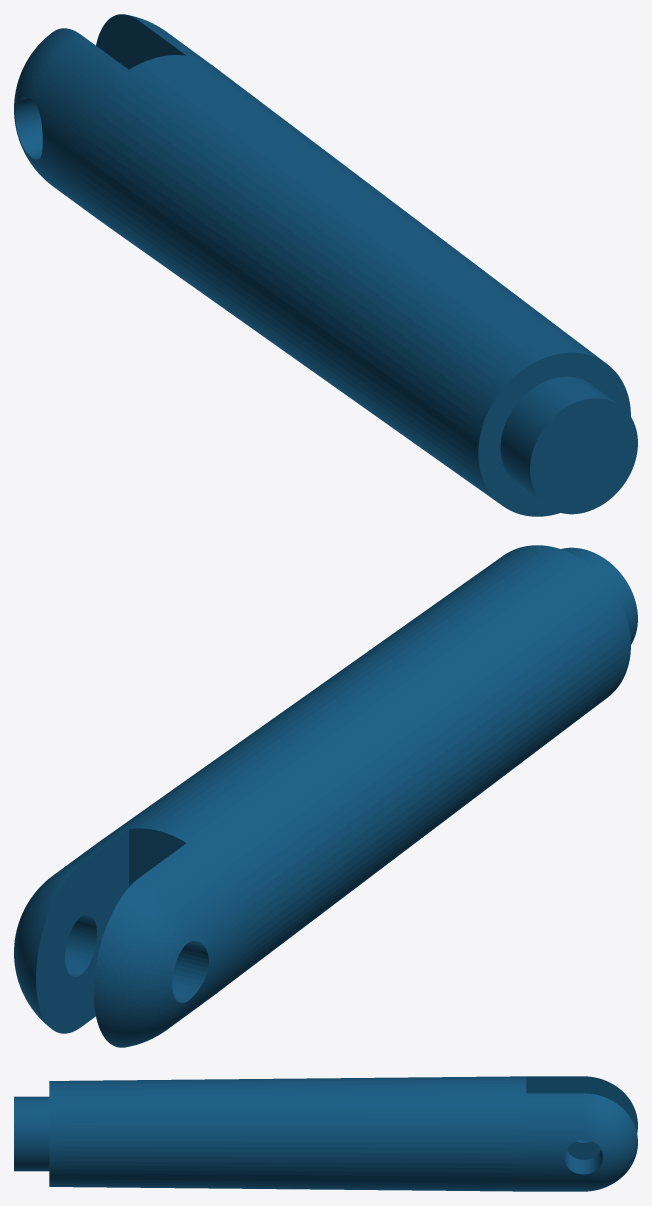
3 views of the same model, one above another, from view 1: azimuth 30°, elevation 25°; view 2: azimuth 150°, elevation 25°; view 3: azimuth 270°, elevation 25° (orthographic). The views are drawn at different scales.
Visible parts, largest first — view 1: node; view 2: node; view 3: node.
Boxes of the visible parts, <box> form: node: <box>14,14,637,516</box>; node: <box>14,545,637,1047</box>; node: <box>14,1076,637,1191</box>.
Bounding box in the file's own units: 0.0604 × 0.0604 × 0.3271.
